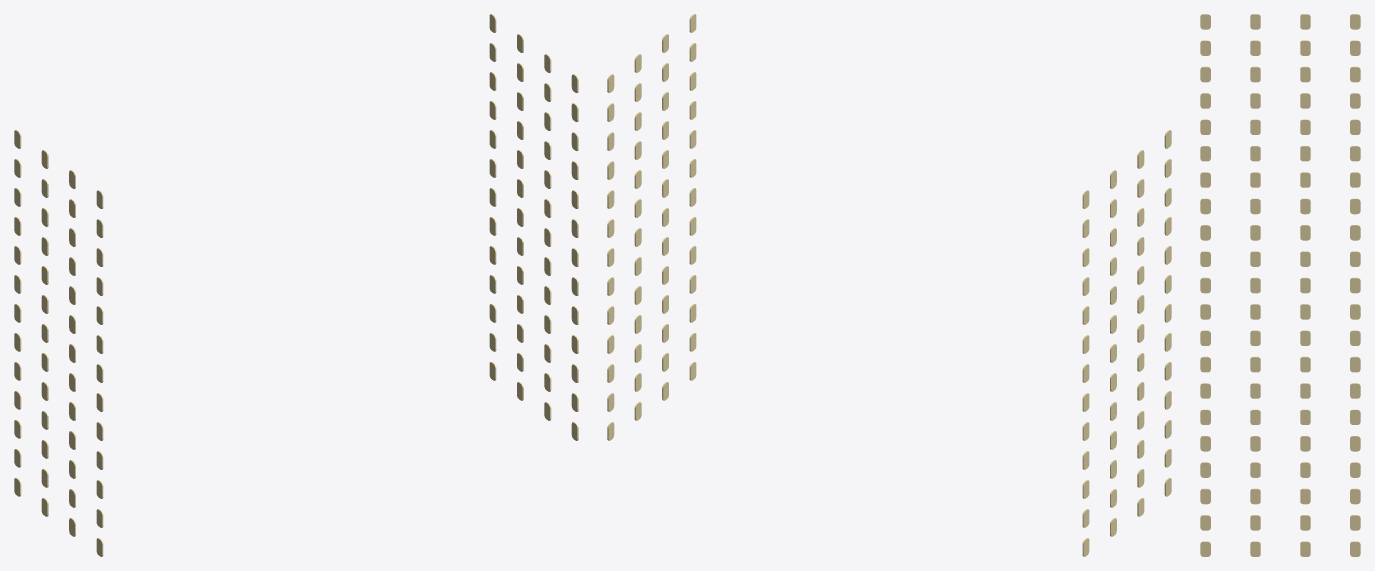
The model's file is SM_Hublots_S5.obj.
The picture shows the model from 3 angles, left to right: view 1: azimuth 30°, elevation 25°; view 2: azimuth 150°, elevation 25°; view 3: azimuth 270°, elevation 25°; orthographic projection. The views are drawn at different scales.
Size of the model in its own units: 24080 by 17600 by 7700.
